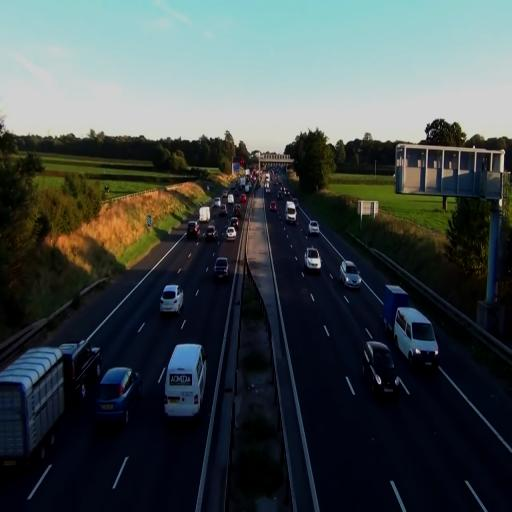vehicle: (0, 348, 68, 468), (161, 342, 207, 422), (394, 306, 440, 372), (94, 366, 142, 426), (362, 340, 400, 400), (160, 284, 184, 316), (340, 260, 361, 290), (303, 245, 322, 275), (214, 256, 230, 283), (199, 222, 218, 242), (186, 220, 200, 239), (286, 200, 298, 222), (205, 223, 218, 243), (224, 223, 238, 241), (227, 221, 238, 239), (308, 219, 320, 235)
